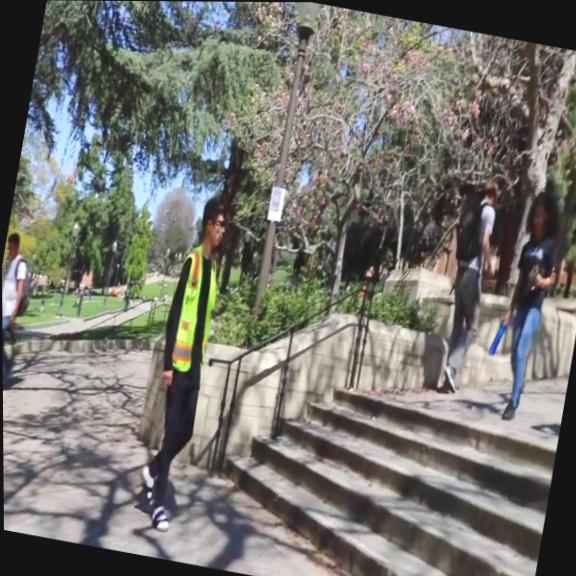safety_vest: (162, 240, 225, 377)
